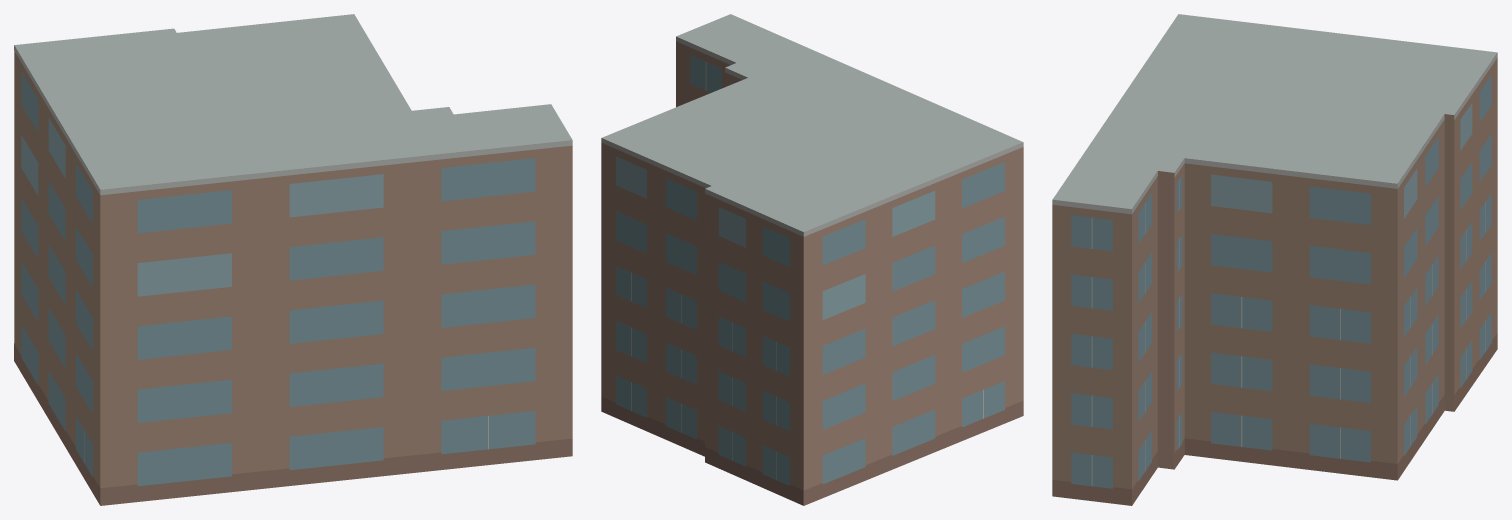
Rendered from survey-upis-32750571.glb.
The picture shows the model from 3 angles, left to right: view 1: azimuth 30°, elevation 25°; view 2: azimuth 150°, elevation 25°; view 3: azimuth 270°, elevation 25°; orthographic projection. The views are drawn at different scales.
Parts seen in each view (by area): view 1: survey-upis-32750571.tmp; view 2: survey-upis-32750571.tmp; view 3: survey-upis-32750571.tmp.
Part boxes in pixels (<box>): survey-upis-32750571.tmp: <box>14,14,572,505</box>; survey-upis-32750571.tmp: <box>601,14,1023,505</box>; survey-upis-32750571.tmp: <box>1052,14,1497,505</box>.
Size of the model in its own units: 20.05 by 14.2 by 19.32.
